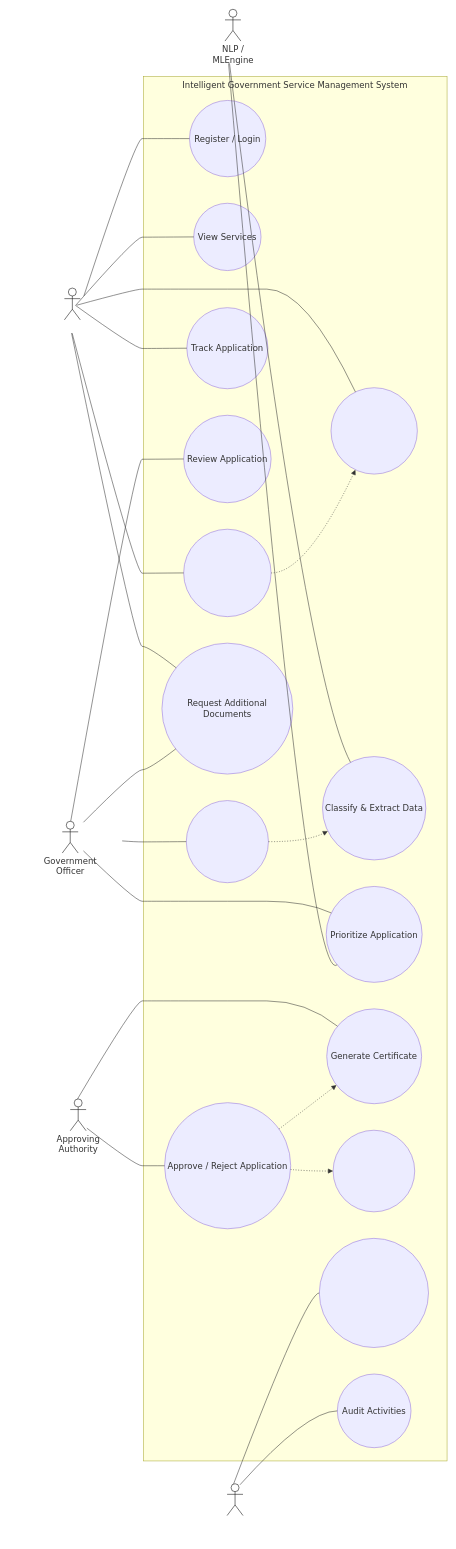
Some shapes in this 456 by 1549 pixel diagram are drawn without their labels. Here are the shapes that lost their labels. From the top down, the centre of each, then its label:
At point (72, 304): "citizen".
At point (373, 430): "Upload Documents".
At point (227, 573): "Submit Application".
At point (227, 841): "Verify Documents".
At point (374, 1171): "Send Notification".
At point (374, 1293): "Manage Users & Services".
At point (235, 1499): "System Administrator".
